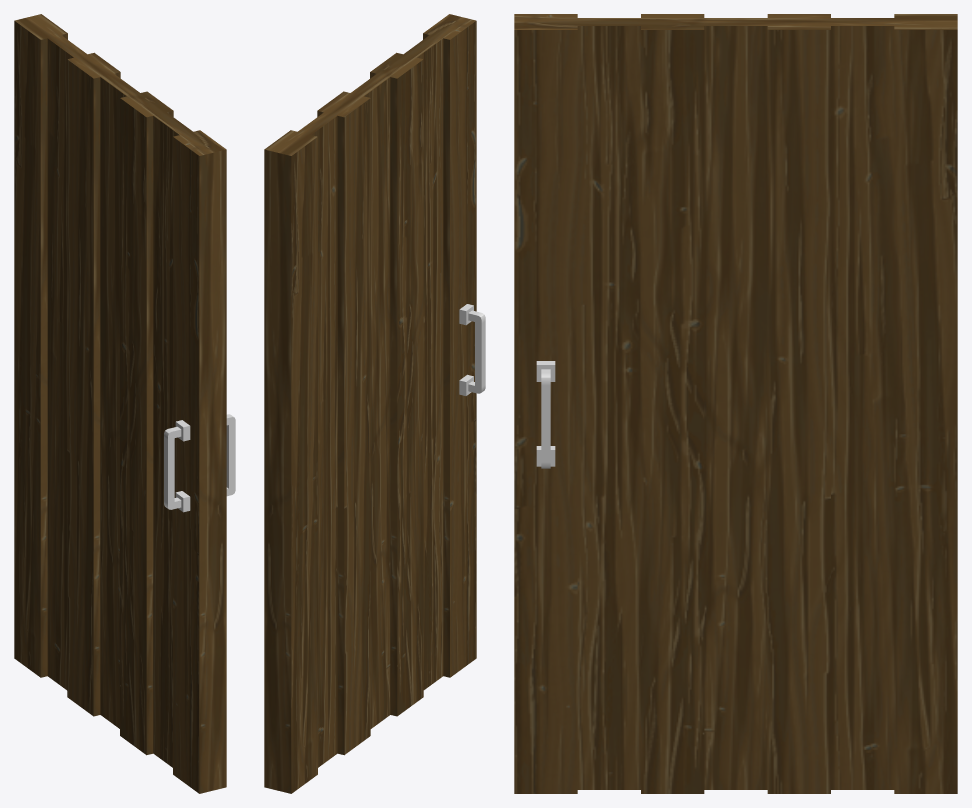
File: Right Door.glb
3 renders of one model, left to right at view 1: azimuth 30°, elevation 25°; view 2: azimuth 150°, elevation 25°; view 3: azimuth 270°, elevation 25°, orthographic. The views are drawn at different scales.
Parts seen in each view (by area): view 1: Right Door; view 2: Right Door; view 3: Right Door.
Part boxes in pixels (x1,y1,x2,y2): Right Door: (14,14,235,793); Right Door: (264,14,485,793); Right Door: (514,14,957,793).
Size of what is drawn, in the model's own units: 1 by 9 by 4.73.
2 materials, 1 textured.
